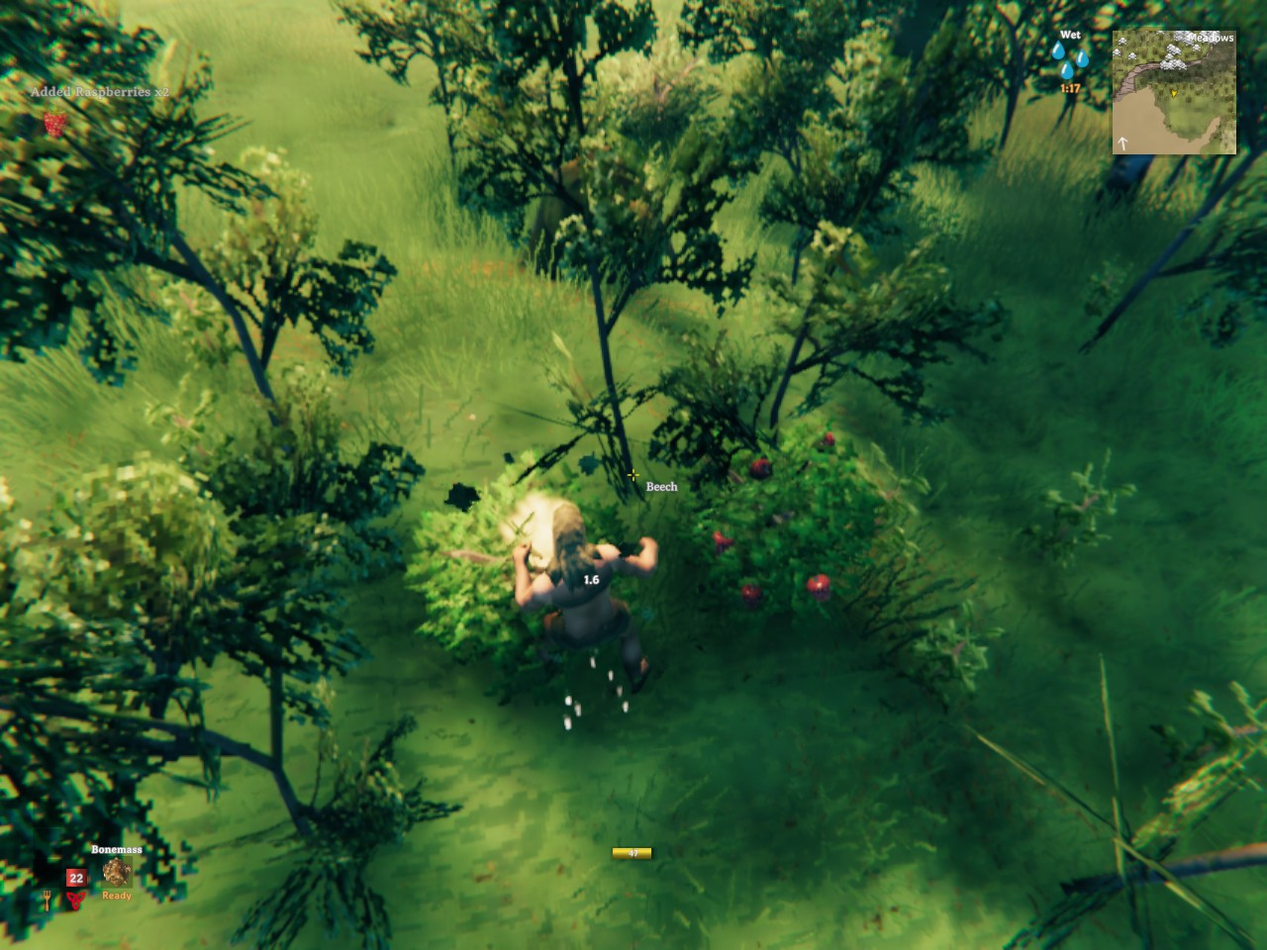Raspberries: (703, 430, 909, 622)
